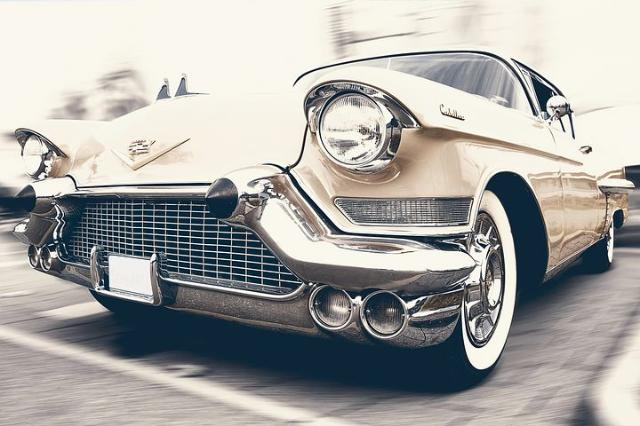cadillac: (10, 54, 634, 384)
